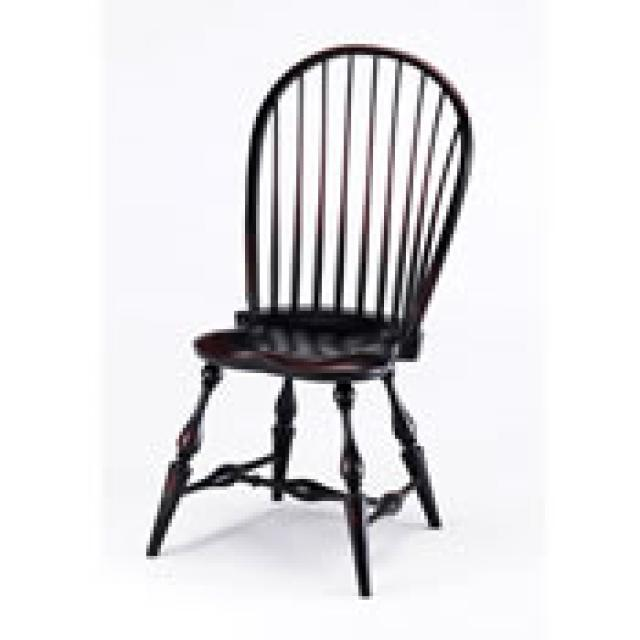chair: (142, 40, 472, 596)
